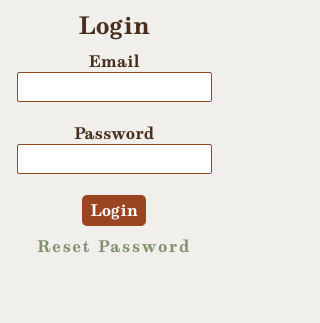
Test case: Login Page › shows backend error message when login fails
This screenshot has width=320, height=323.
Step 1. Type "wrong@test.com" into the field labelled "Email" → (114, 87), box x1=16 y1=72 x2=212 y2=102
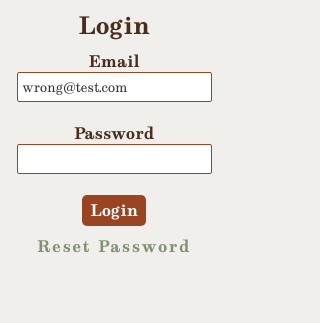
Step 2. Type "wrongpass" into the password field labelled "Password" → (114, 159), box x1=16 y1=144 x2=212 y2=174
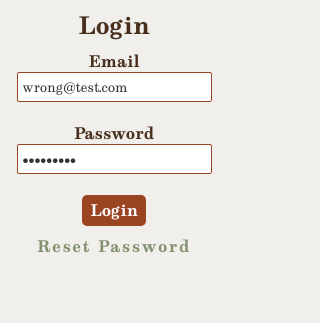
Step 3. Click the button "Login" → click(114, 210), box x1=82 y1=195 x2=146 y2=226
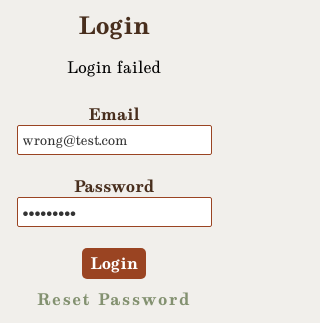
Now the text "Login failed" is shown, box x1=67 y1=57 x2=161 y2=78
